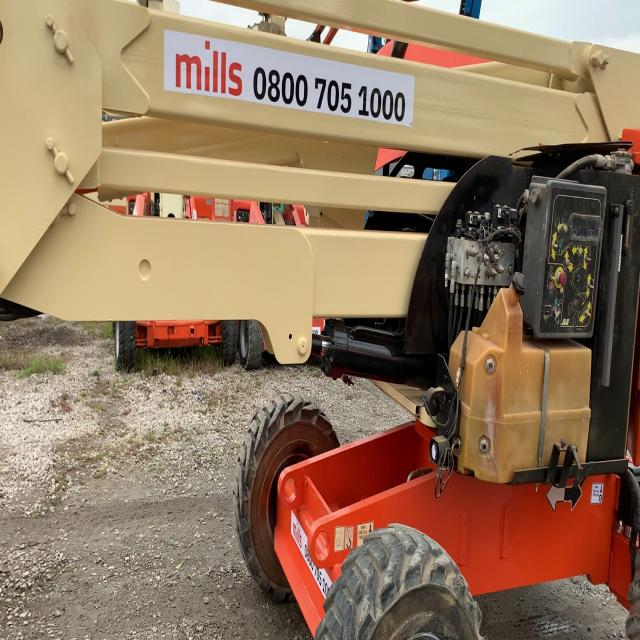Adesivos: (163, 27, 416, 128)
